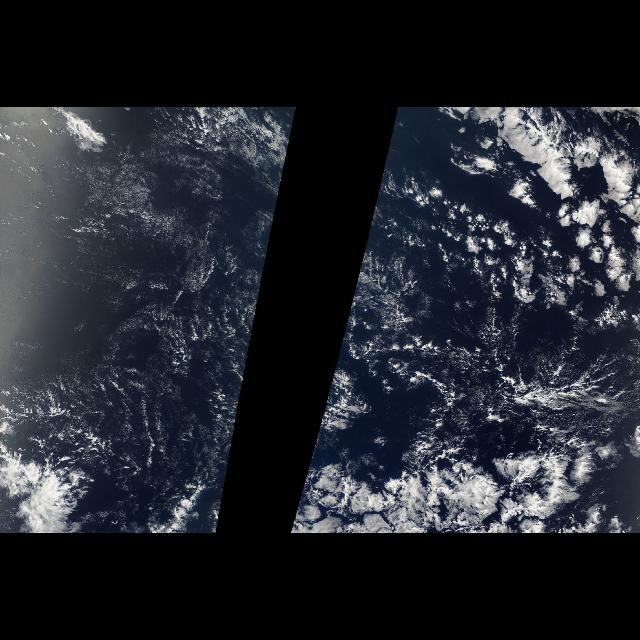Flower: (455, 132, 639, 308)
Sugar: (5, 147, 254, 440), (454, 352, 634, 440)
